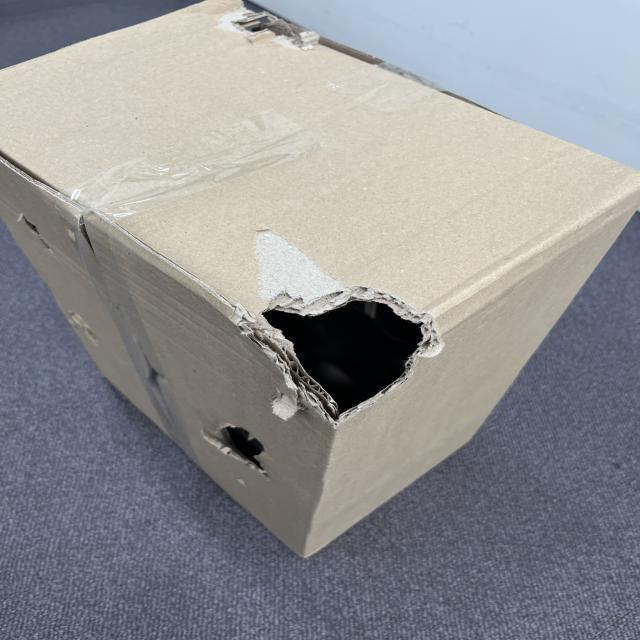hole: (240, 279, 445, 429), (192, 419, 286, 477)
